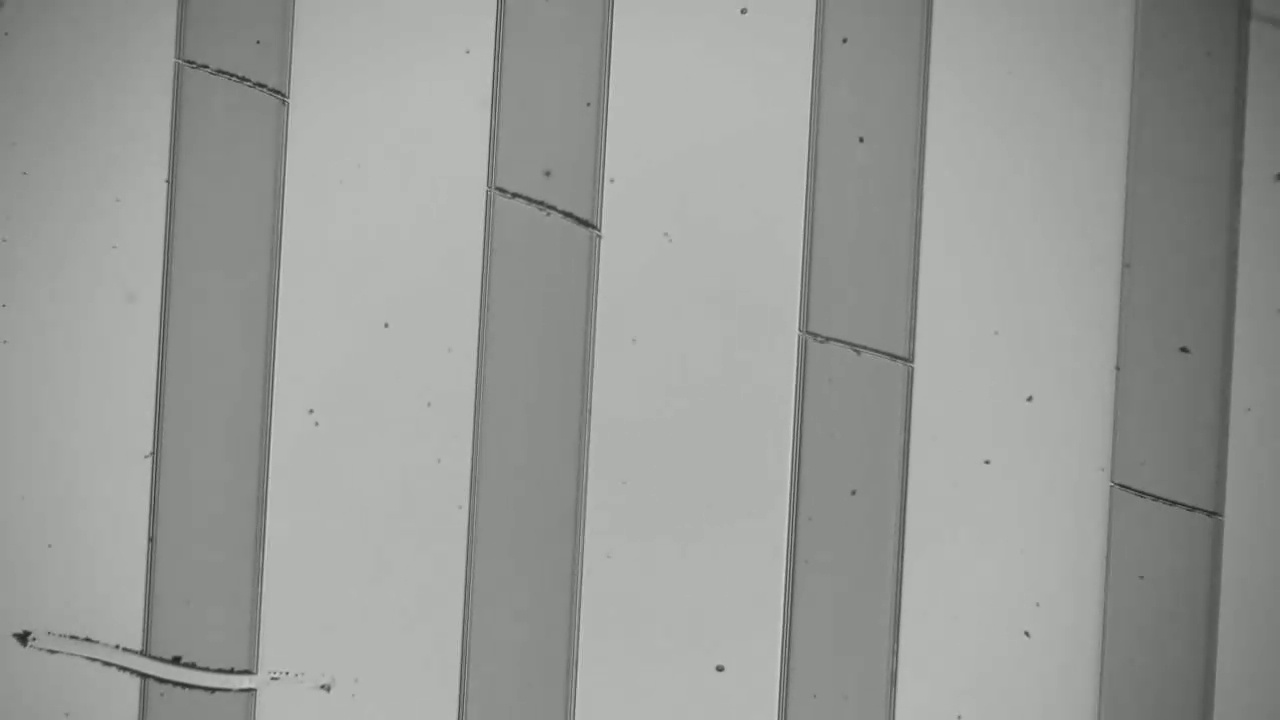Short_circuit: (117, 641, 283, 705)
scratch: (1114, 477, 1213, 519), (814, 325, 904, 371), (189, 57, 279, 101), (500, 180, 585, 226)
